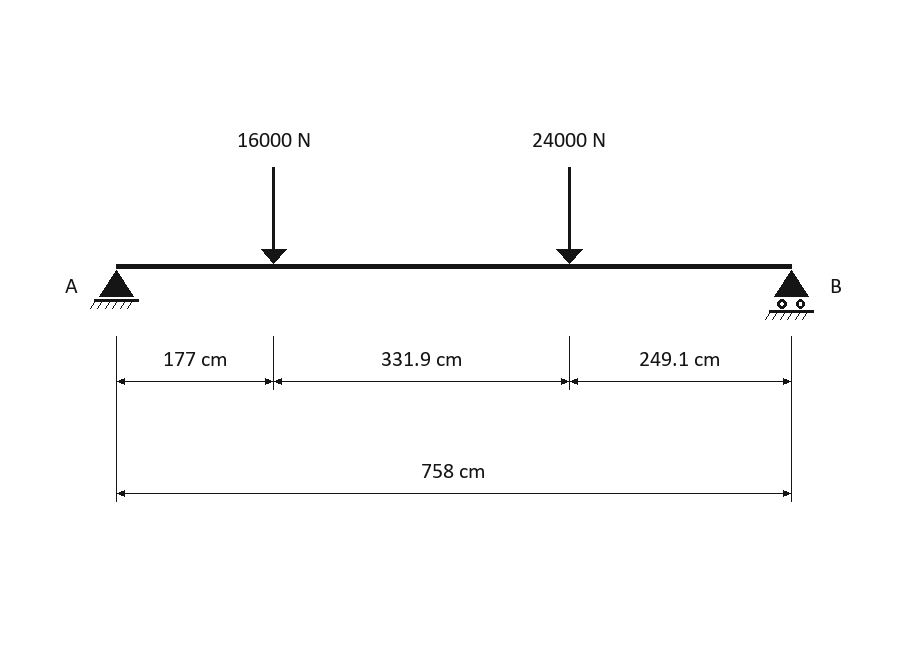pin_support: (90, 270, 139, 309)
point_load: (556, 167, 583, 264), (261, 167, 287, 264)
roller_support: (765, 270, 814, 320)
